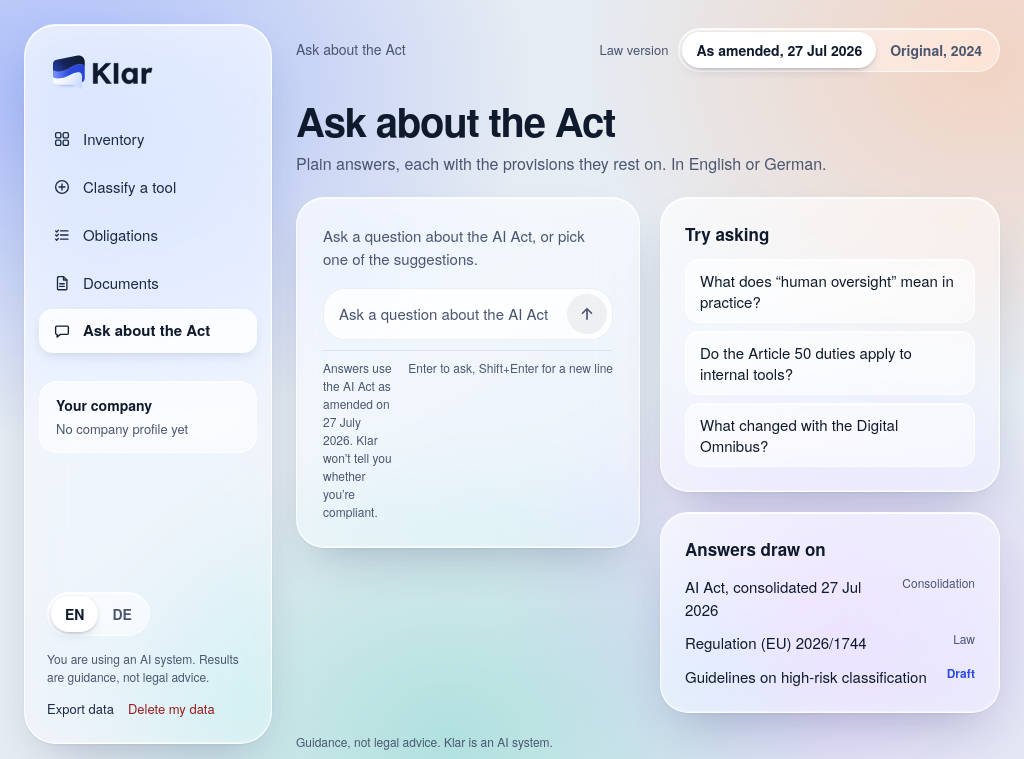
Ask about the Act › answers a question with the provisions it rests on, sending it once
Expected: the heading "Ask about the Act" is shown, [296,92,615,149]
In the text box named "Your question": point(449, 314) [339,294,559,334], type "  What counts as a deployer?  "
Then press Enter
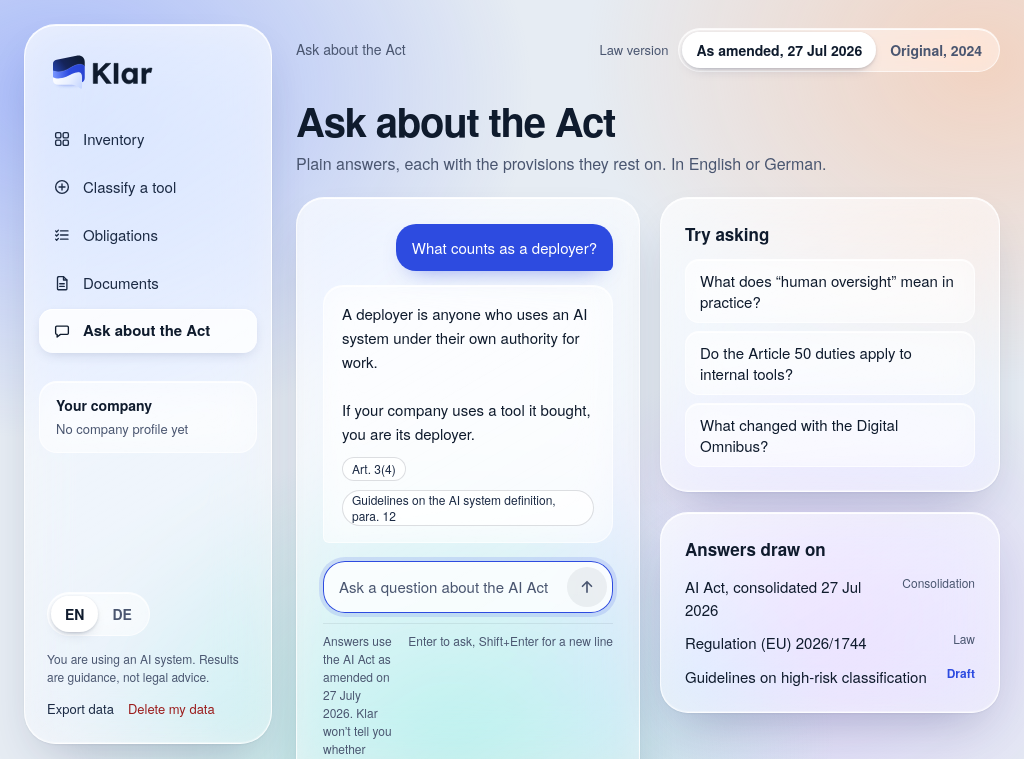
Expected: the text box named "Your question" is empty, [339,567,559,607]
Now the text "A deployer is anyone who uses an AI system" is shown, box [342,303,591,444]
Now the buttons read "Art. 3(4)", "Guidelines on the AI system definition, para. 12", in this order, box [342,457,406,481]; [342,490,594,526]
